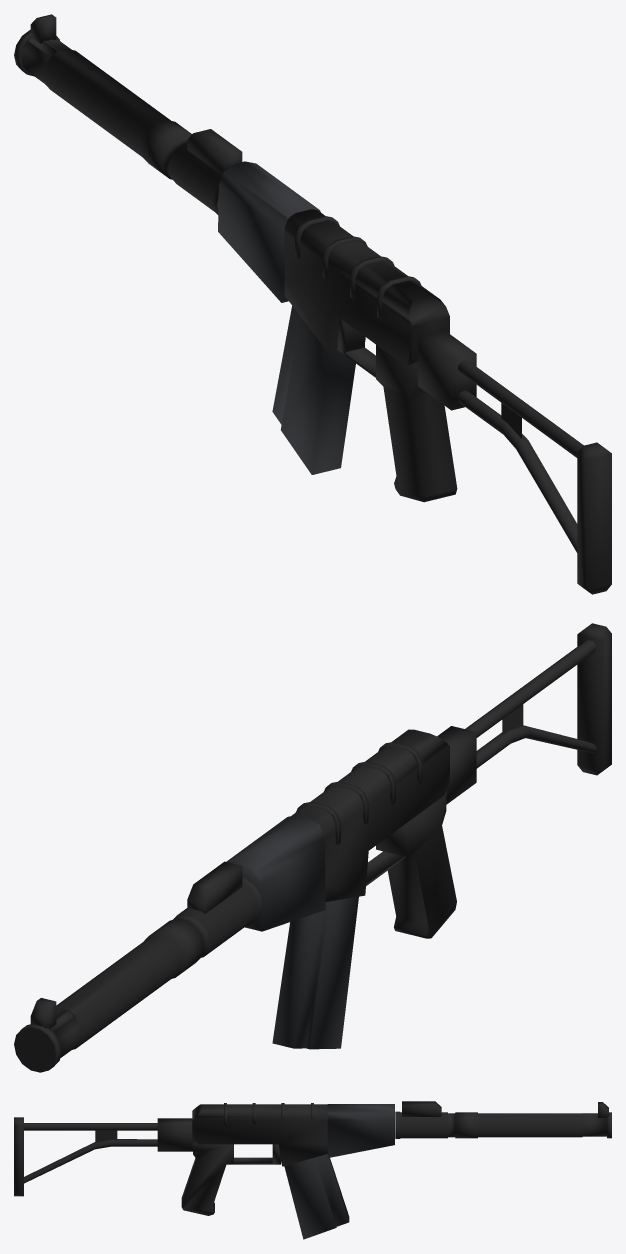
File: Val.fbx
3 renders of one model, top to bottom at view 1: azimuth 30°, elevation 25°; view 2: azimuth 150°, elevation 25°; view 3: azimuth 270°, elevation 25°, orthographic. The views are drawn at different scales.
Visible parts, largest first — view 1: Объект Куб.2; view 2: Объект Куб.2; view 3: Объект Куб.2.
Boxes of the visible parts, <box> form: Объект Куб.2: <box>14,14,611,594</box>; Объект Куб.2: <box>14,623,611,1072</box>; Объект Куб.2: <box>14,1101,611,1239</box>.
Size of the model in its own units: 36.1 by 189 by 773.
Materials: 1 (1 with a texture image).
